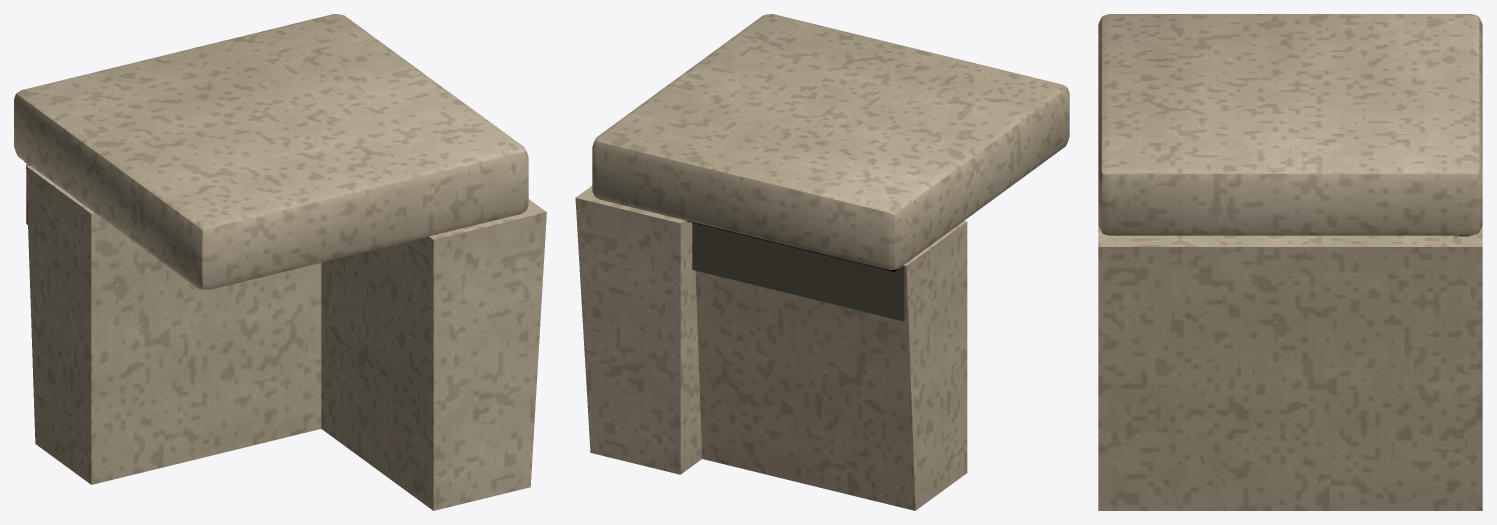
The model's file is water-coping-corner.lod0.glb.
The picture shows the model from 3 angles, left to right: view 1: azimuth 30°, elevation 25°; view 2: azimuth 150°, elevation 25°; view 3: azimuth 270°, elevation 25°; orthographic projection. The views are drawn at different scales.
Parts seen in each view (by area): view 1: water_coping_corner_Stone • warm limestone; view 2: water_coping_corner_Stone • warm limestone, water_coping_corner_Trim • places palette; view 3: water_coping_corner_Stone • warm limestone.
Part boxes in pixels (x1,y1,x2,y2): water_coping_corner_Stone • warm limestone: [14, 14, 546, 510]; water_coping_corner_Stone • warm limestone: [575, 14, 1069, 510]; water_coping_corner_Trim • places palette: [687, 221, 905, 321]; water_coping_corner_Stone • warm limestone: [1098, 14, 1482, 510].
Bounding box in the file's own units: 0.427 × 0.4 × 0.41.
2 materials, 2 textured.
